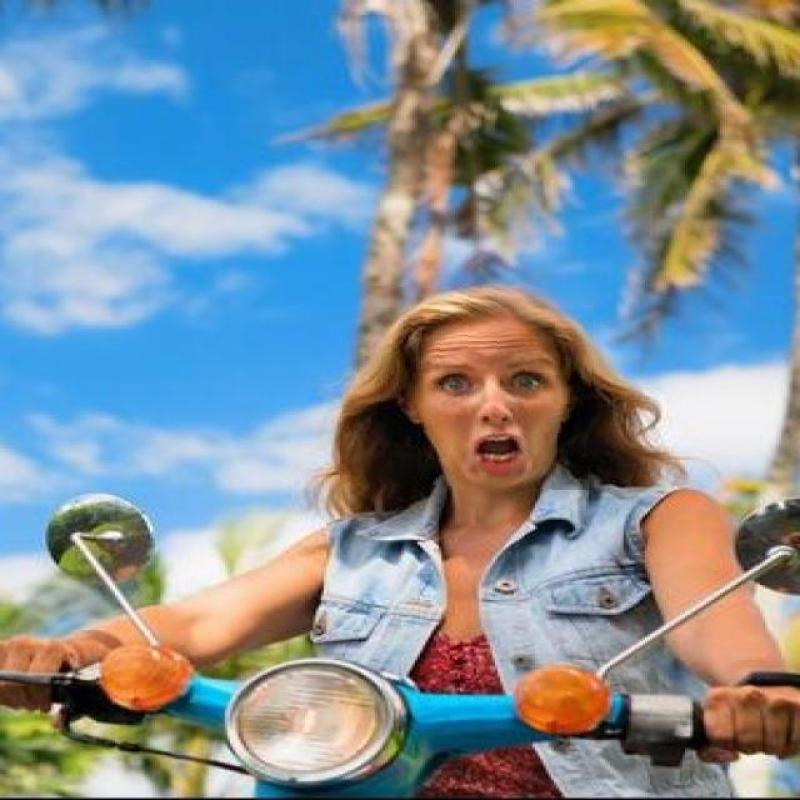nohelmet: (342, 287, 592, 488)
